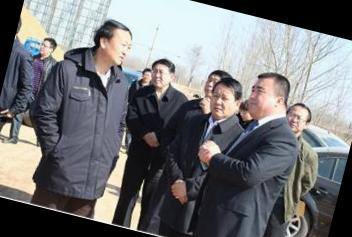no_helmet: (239, 60, 297, 124), (86, 12, 140, 70), (205, 70, 250, 127), (146, 52, 180, 94), (282, 99, 316, 136), (201, 64, 229, 102), (37, 34, 62, 62), (136, 64, 153, 87)
